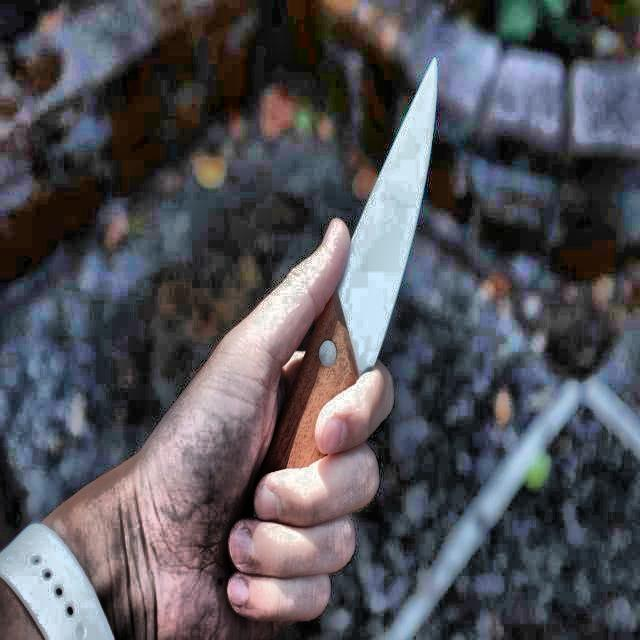knife: (240, 57, 438, 521)
